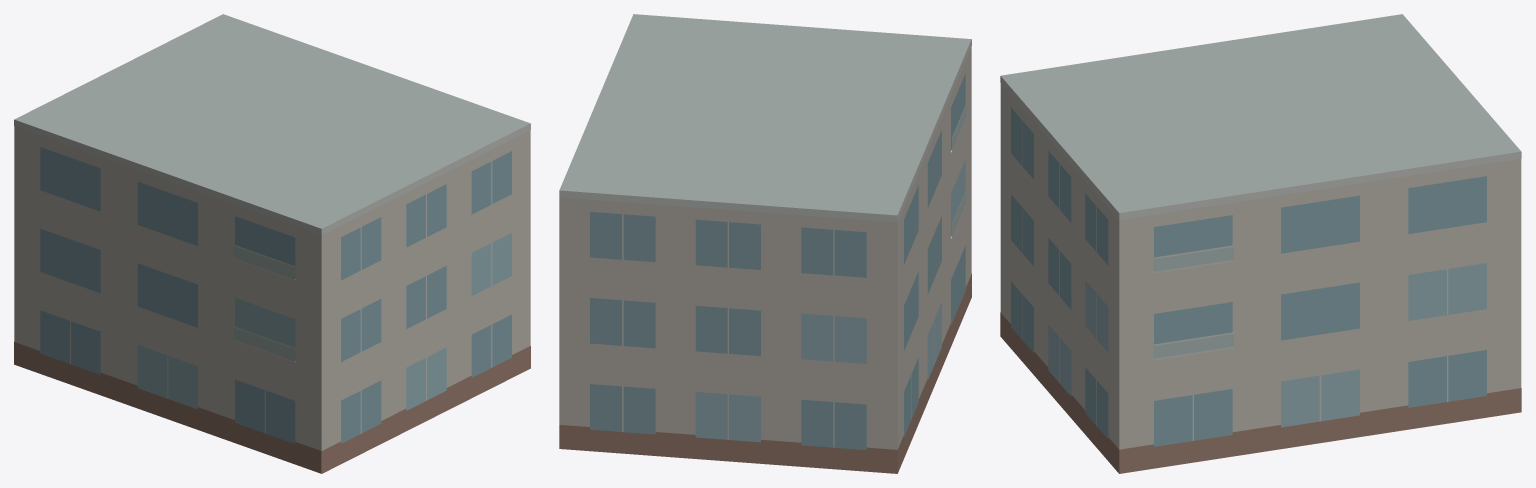
File: survey-upis-32702942.glb
3 views of the same model, side by side, from view 1: azimuth 30°, elevation 25°; view 2: azimuth 150°, elevation 25°; view 3: azimuth 270°, elevation 25° (orthographic). The views are drawn at different scales.
Parts seen in each view (by area): view 1: survey-upis-32702942.tmp; view 2: survey-upis-32702942.tmp; view 3: survey-upis-32702942.tmp.
Boxes of the visible parts, x1=… form: survey-upis-32702942.tmp: x1=14, y1=14, x2=530, y2=473; survey-upis-32702942.tmp: x1=559, y1=14, x2=971, y2=473; survey-upis-32702942.tmp: x1=1000, y1=14, x2=1521, y2=473.
Size of the model in its own units: 15 by 9.15 by 16.58.
